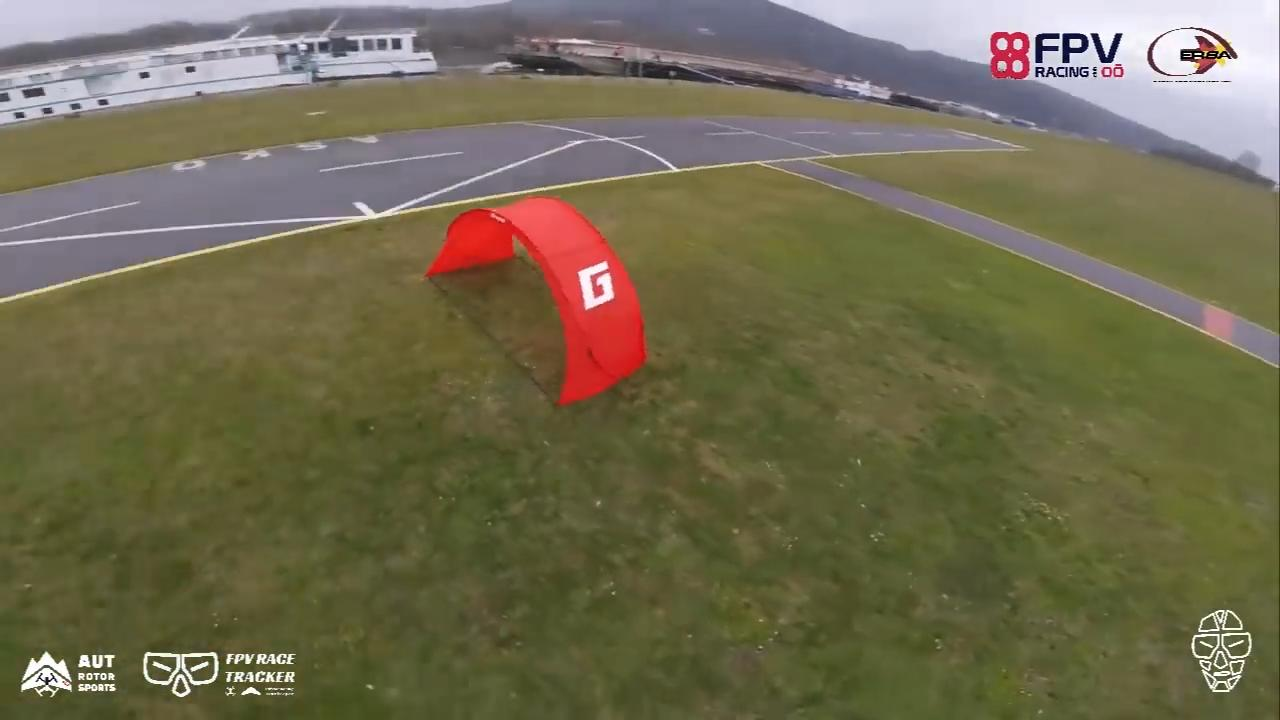gate: (421, 193, 647, 404)
